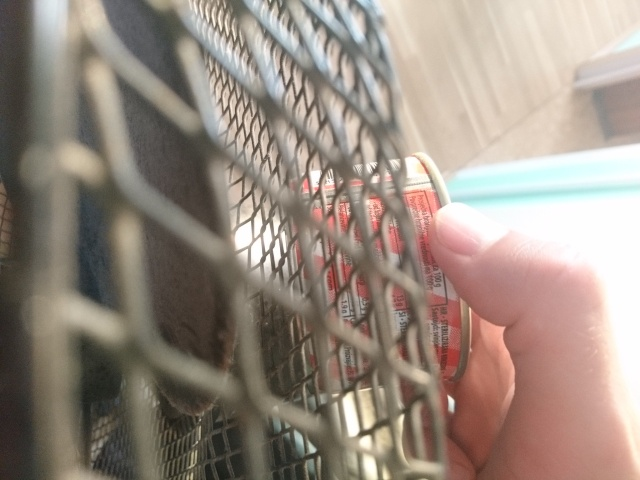Podravka Luncheon Meat 150g: (276, 147, 477, 398)
